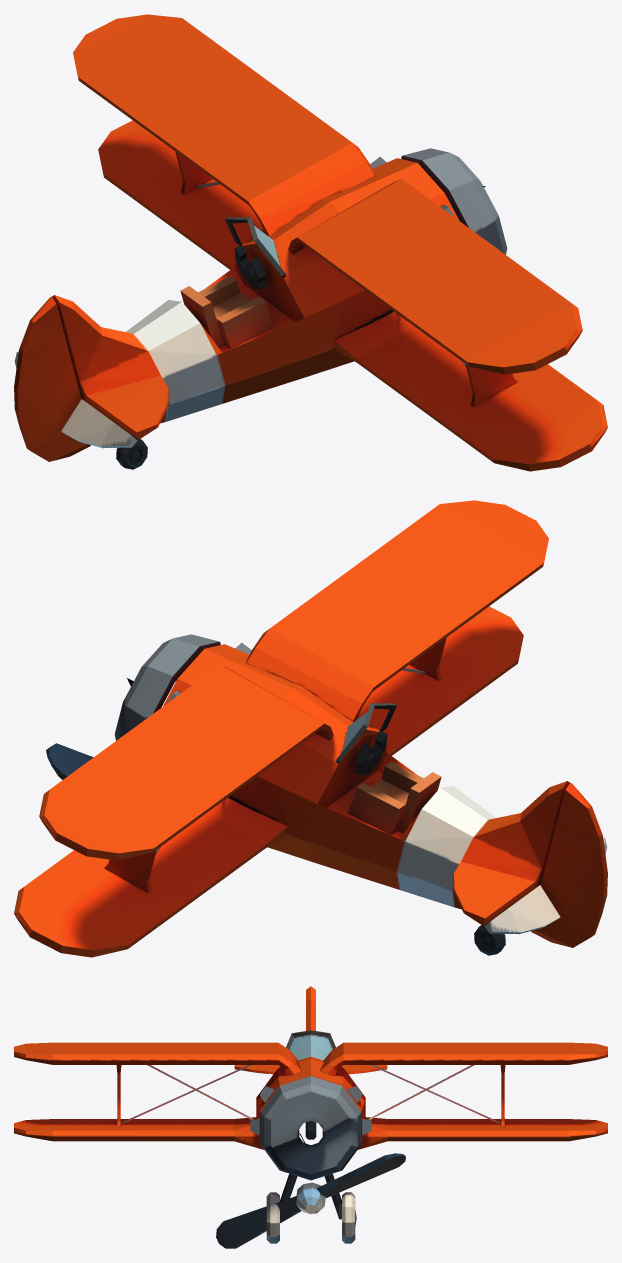
The model's file is _airplane02.glb.
The picture shows the model from 3 angles, top to bottom: view 1: azimuth 30°, elevation 25°; view 2: azimuth 150°, elevation 25°; view 3: azimuth 270°, elevation 25°; orthographic projection. The views are drawn at different scales.
Parts seen in each view (by area): view 1: PUSHILIN_Plane_Circle.000; view 2: PUSHILIN_Plane_Circle.000, PUSHILIN_Plane_Circle.001; view 3: PUSHILIN_Plane_Circle.000, PUSHILIN_Plane_Circle.001.
Boxes of the visible parts, x1,y1,x2,y2 form: PUSHILIN_Plane_Circle.000: (14,14,607,471); PUSHILIN_Plane_Circle.000: (14,500,607,957); PUSHILIN_Plane_Circle.001: (46,743,93,779); PUSHILIN_Plane_Circle.000: (14,986,607,1243); PUSHILIN_Plane_Circle.001: (216,1153,405,1248).
Bounding box in the file's own units: 2.43 × 1.15 × 3.78.
1 material, 1 textured.
